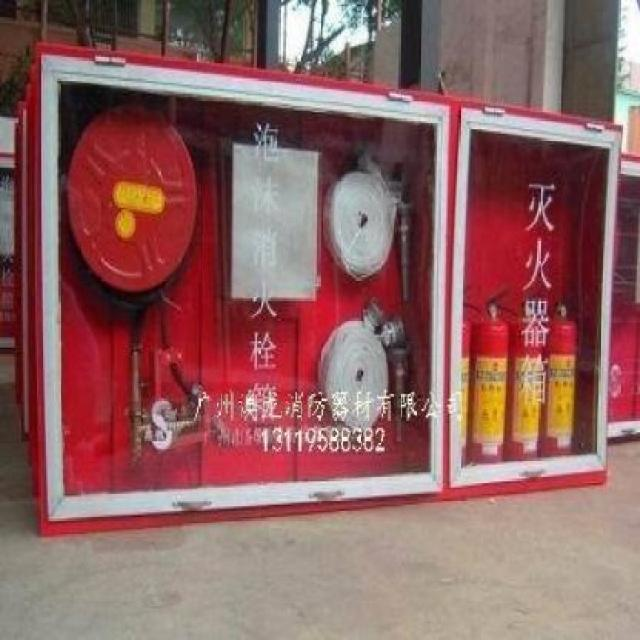firehydrant: (11, 37, 624, 542), (606, 152, 640, 442)
